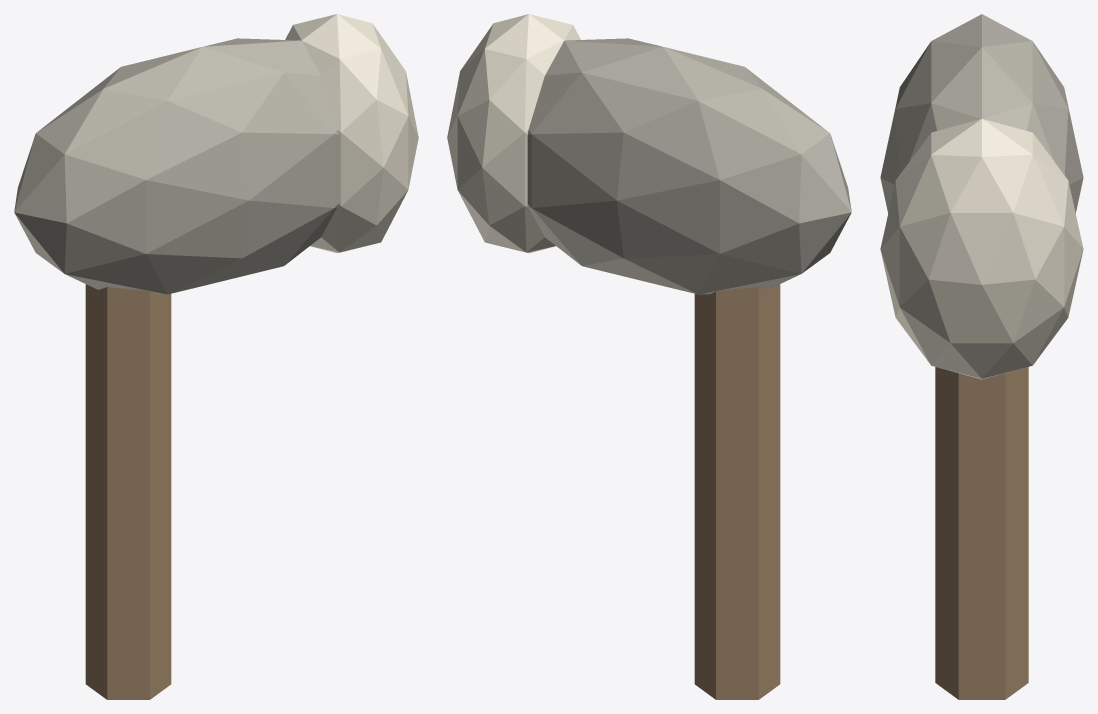
File: axe.glb
3 views of the same model, side by side, from view 1: azimuth 30°, elevation 25°; view 2: azimuth 150°, elevation 25°; view 3: azimuth 270°, elevation 25° (orthographic). The views are drawn at different scales.
Parts seen in each view (by area): view 1: part1, part0, part2; view 2: part1, part0, part2; view 3: part2, part0, part1.
Part boxes in pixels (left/top/right/bottom): part1: left=14, top=38, right=338, bottom=294; part0: left=85, top=284, right=171, bottom=699; part2: left=285, top=14, right=418, bottom=253; part1: left=527, top=38, right=851, bottom=294; part0: left=694, top=284, right=780, bottom=699; part2: left=447, top=14, right=580, bottom=253; part2: left=880, top=119, right=1083, bottom=379; part0: left=935, top=367, right=1028, bottom=699; part1: left=880, top=14, right=1083, bottom=213.
Size of the model in its own units: 0.58 by 0.88 by 0.24.
